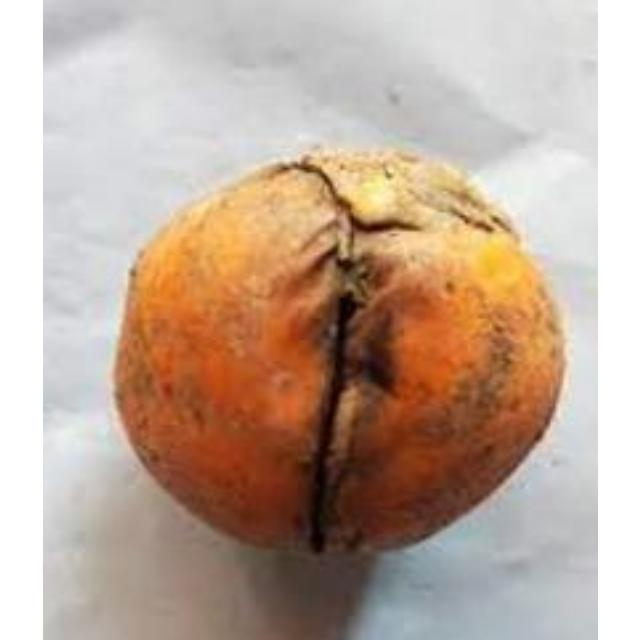damaged: (108, 143, 570, 560)
